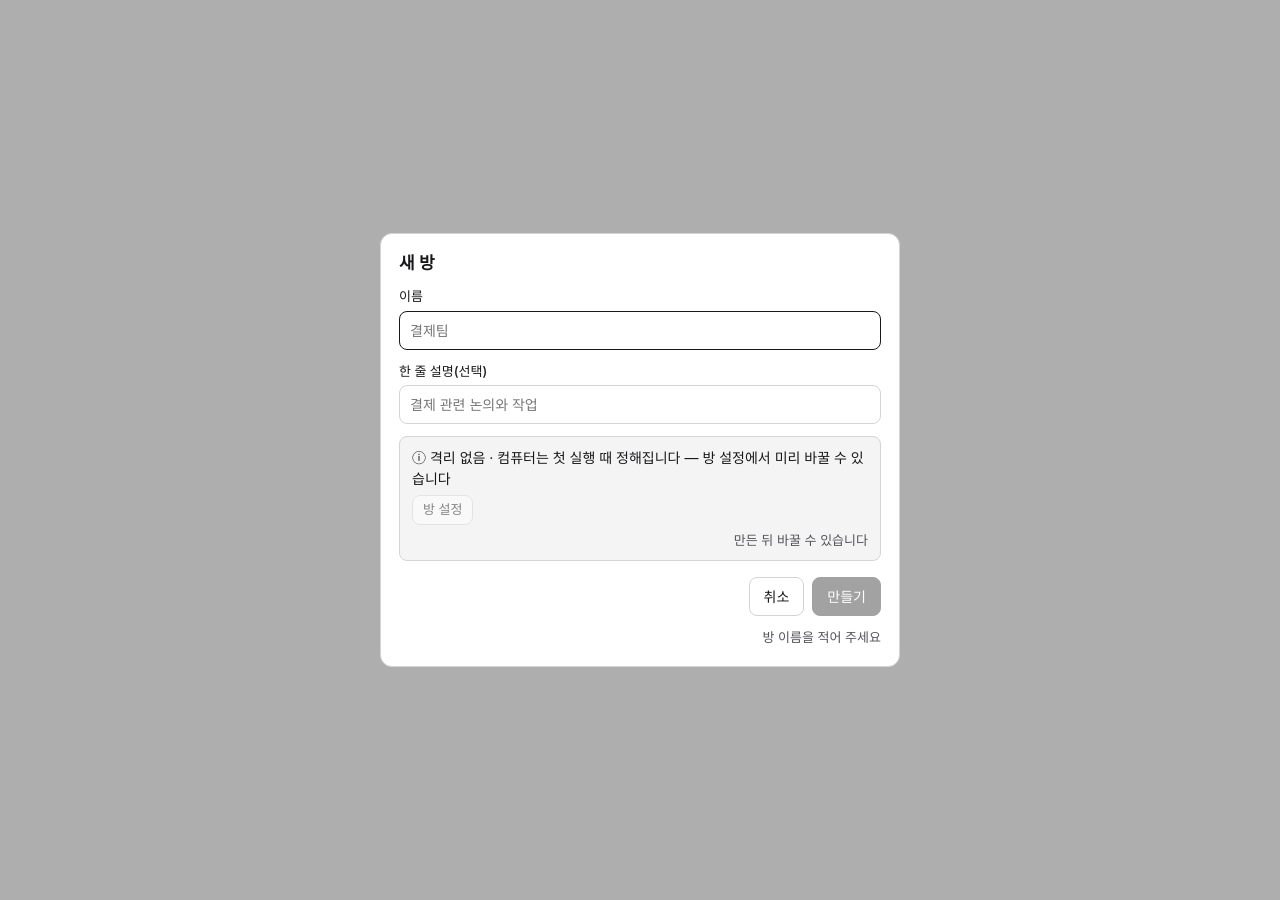
Test: S18 방 만들기 › 같은 이름이 있으면 경고 한 줄 — listRooms?q=(참여 무관 · 보관 포함) · 막지 않는다
In the field with test id "create-room-name": point(640, 330) [399,311,881,350], type " 결제팀 "
Wait 300 ms
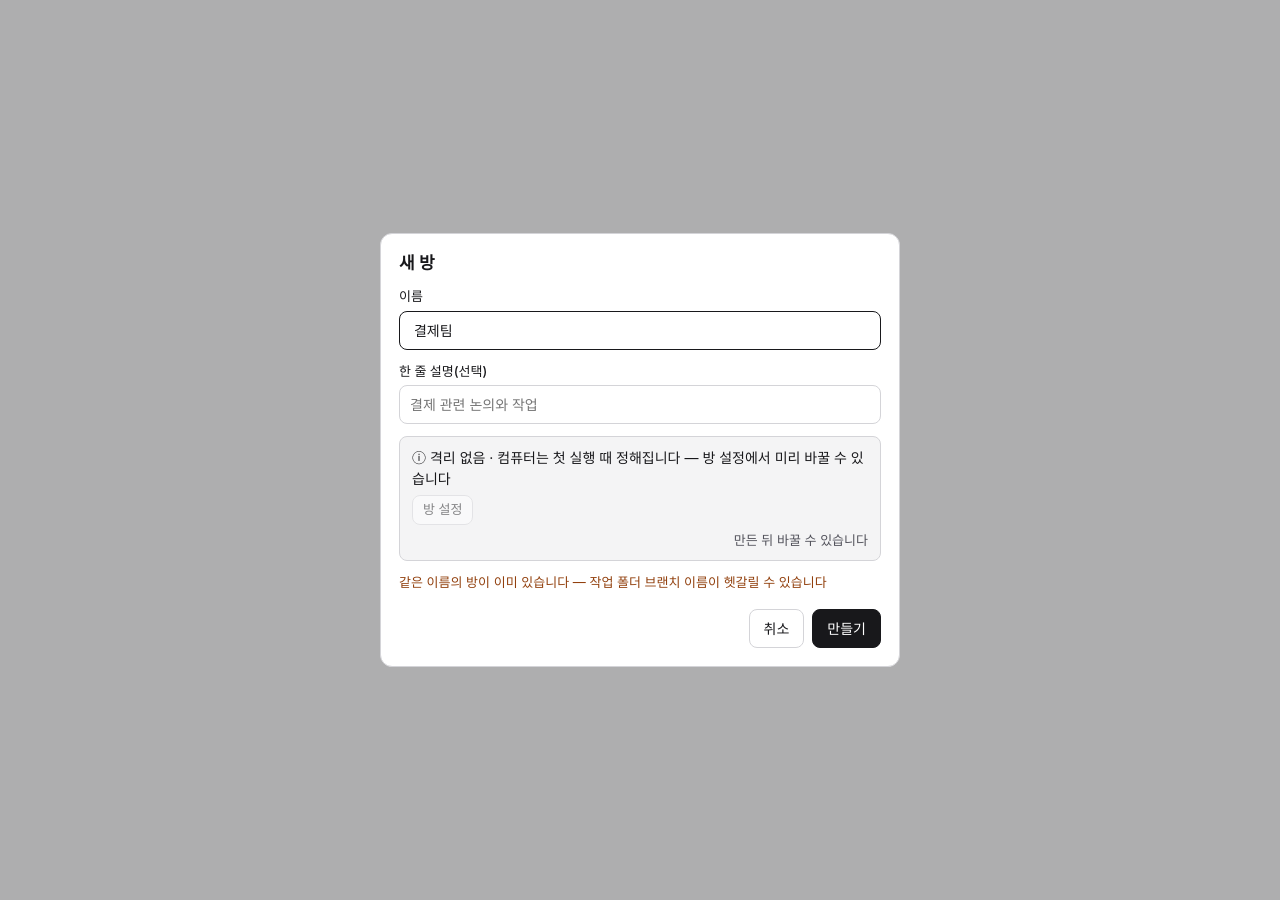
Now the message with test id "create-room-duplicate" shows "같은 이름의 방이 이미 있습니다", box [399,574,827,590]
